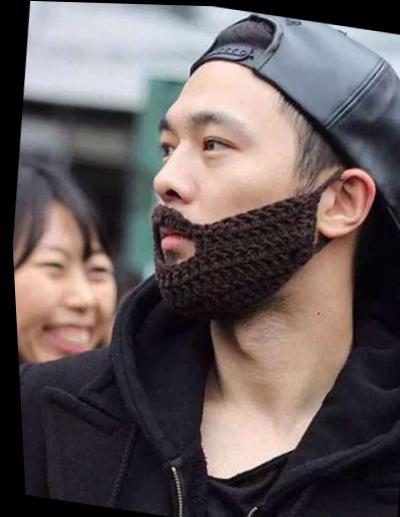NONE: (9, 204, 131, 396)
WRONG: (132, 73, 310, 320)
